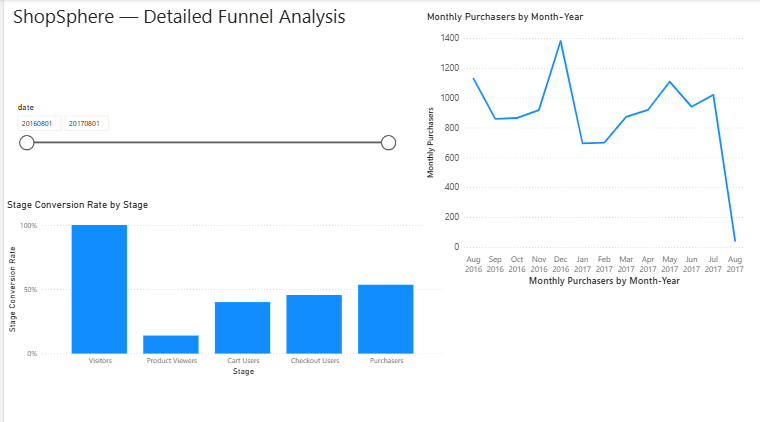

This screenshot's page, from the dashboard's own definition file:
{"tool":"powerbi","page":{"name":"Page 2","canvas":[1280,720],"ordinal":1},"visuals":[{"type":"textbox","box":[10.2,0,662,57.6],"z":0},{"type":"slicer","fields":{"Values":["shopsphere_daily_funnel.date"]},"box":[10,169,662,150],"z":1},{"type":"lineClusteredColumnComboChart","fields":{"Category":["Funnel Stages.Stage"],"Y":["Funnel Stages.Stage Conversion Rate"]},"box":[0,338.6,750.1,304.8],"z":2},{"type":"lineChart","fields":{"Y":["Funnel Stages.Monthly Purchasers"],"Category":["shopsphere_daily_funnel.Month-Year"]},"box":[711.1,20.3,548.6,470.7],"z":3}]}

Visuals, with their boxes in screenshot pixels (x1, y1, x2, y2), scaled from the page's 1280x720 canvas onto the 760x422 screenshot:
textbox: <box>6,0,399,34</box>
slicer - shopsphere_daily_funnel.date: <box>6,99,399,187</box>
lineClusteredColumnComboChart - Funnel Stages.Stage x Funnel Stages.Stage Conversion Rate: <box>0,198,445,377</box>
lineChart - Funnel Stages.Monthly Purchasers x shopsphere_daily_funnel.Month-Year: <box>422,12,748,288</box>
